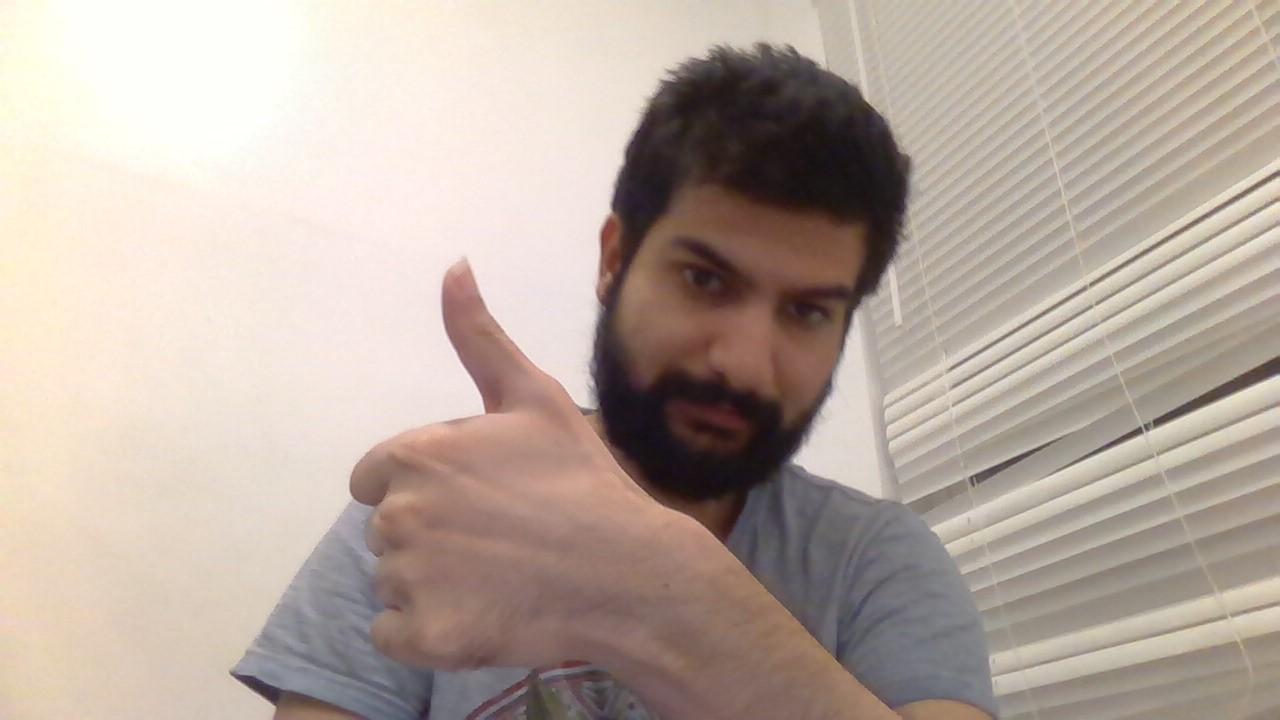up: (341, 246, 596, 678)
